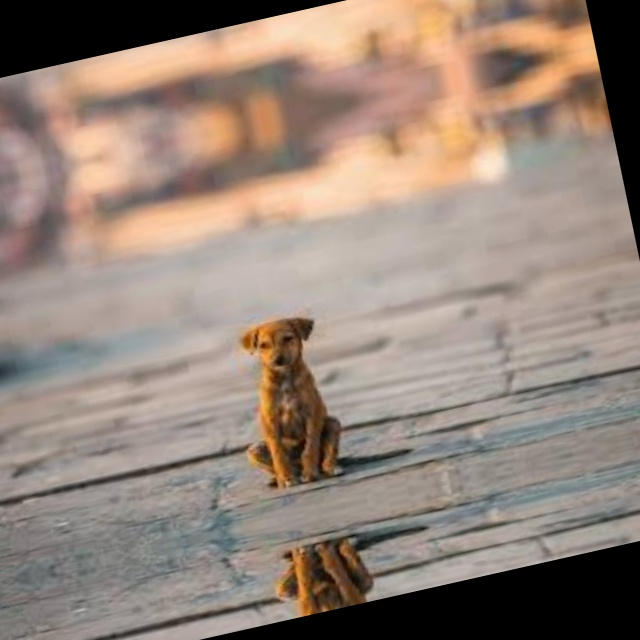dog: (178, 250, 399, 523), (230, 501, 421, 629)
